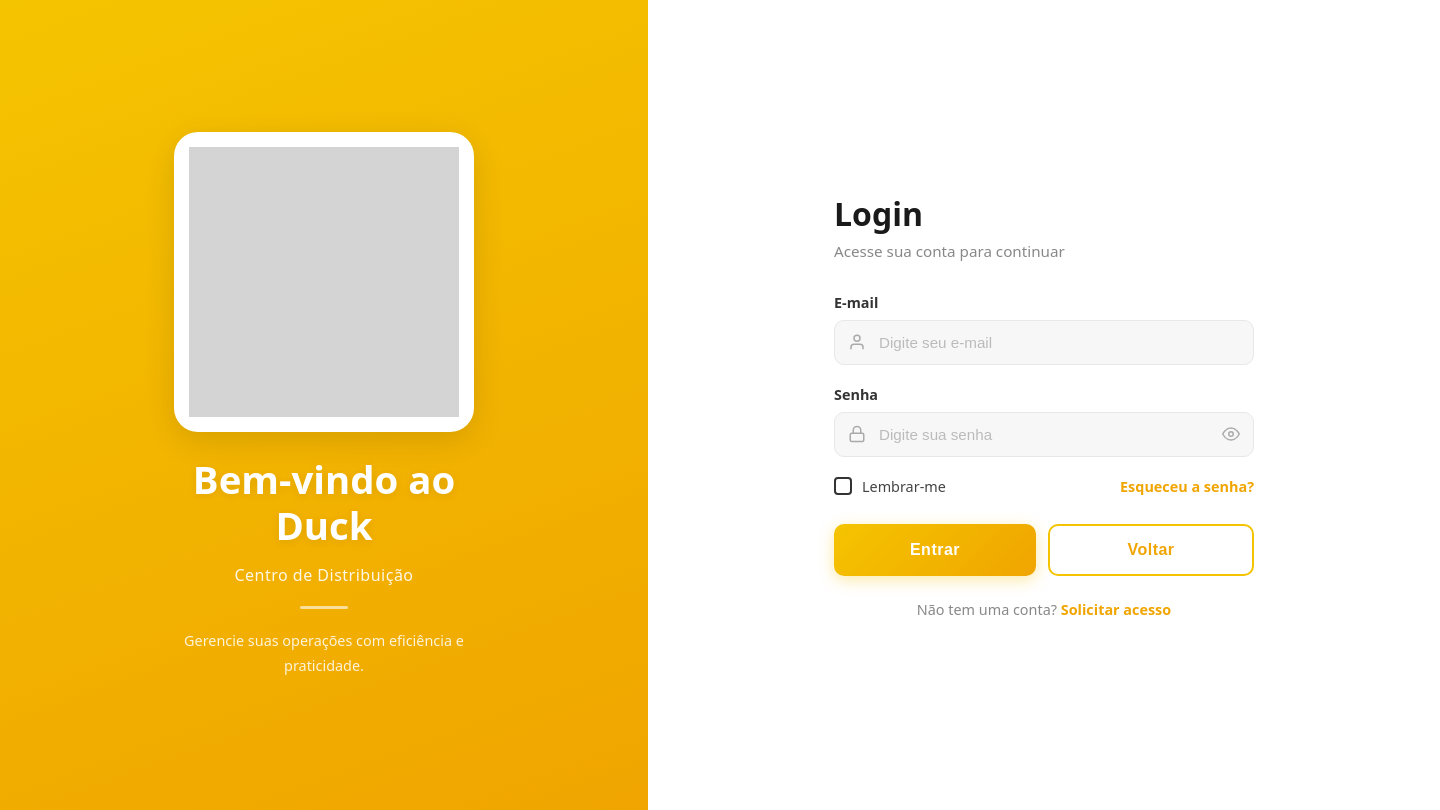
Scenario: Tela de Login › exibe mensagem de erro quando o backend rejeita as credenciais
Type "errado@email.com" into the field with placeholder "Digite seu e-mail". click: coordinates (1044, 342)
box: left=834, top=320, right=1254, bottom=364
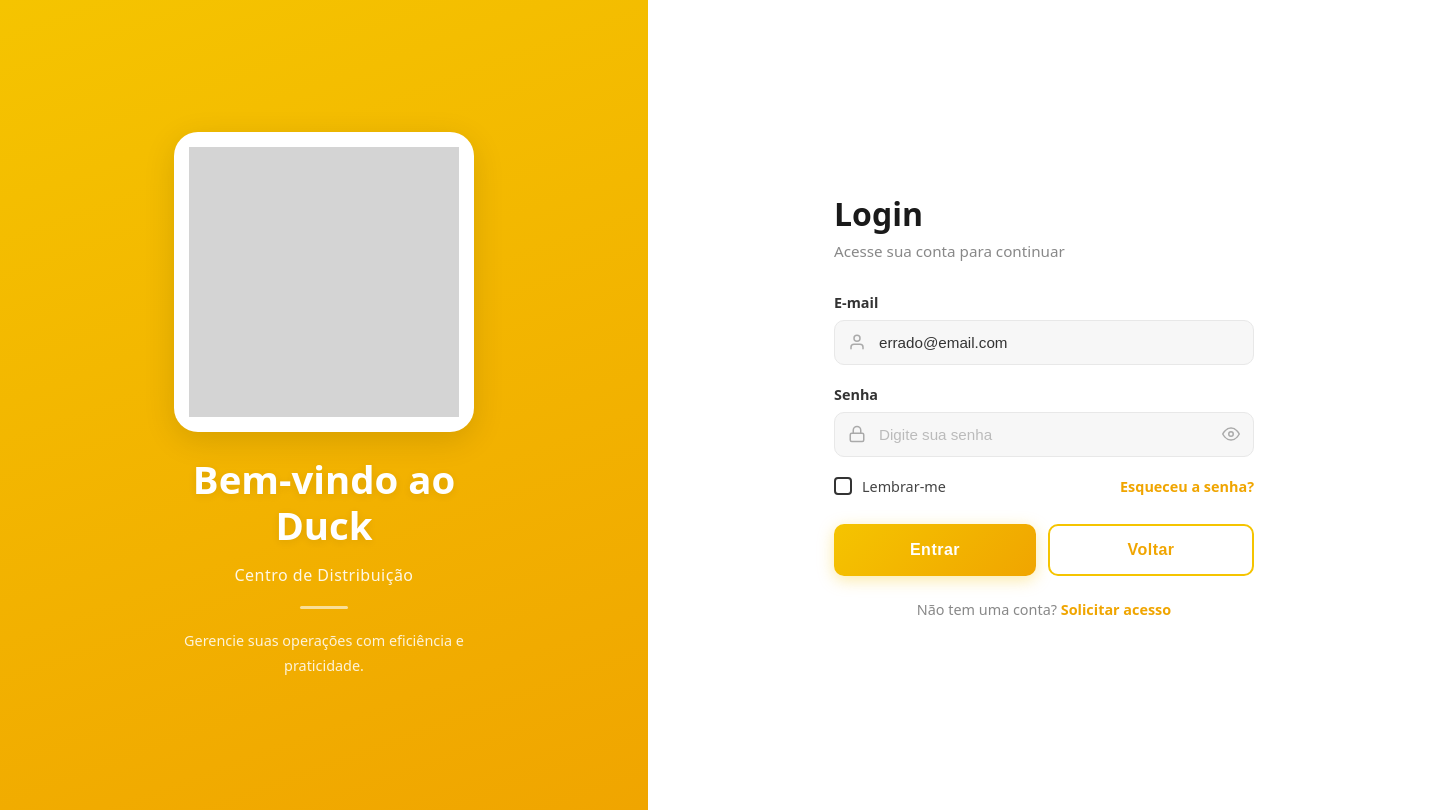
Type "errado" into the password field with placeholder "Digite sua senha". click: coordinates (1044, 434)
box: left=834, top=412, right=1254, bottom=456
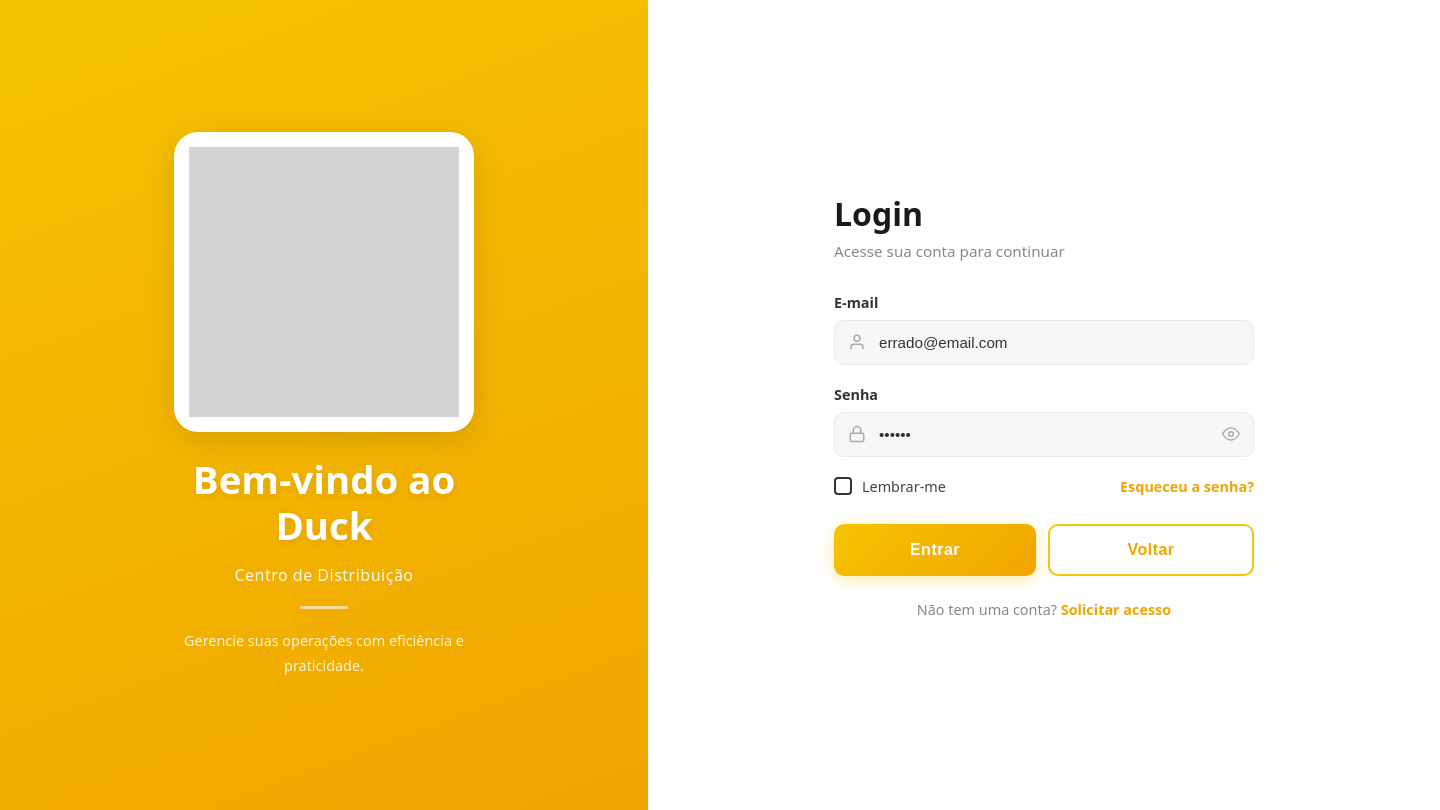
Click the button "Entrar". click: coordinates (935, 550)
box: left=834, top=524, right=1036, bottom=576
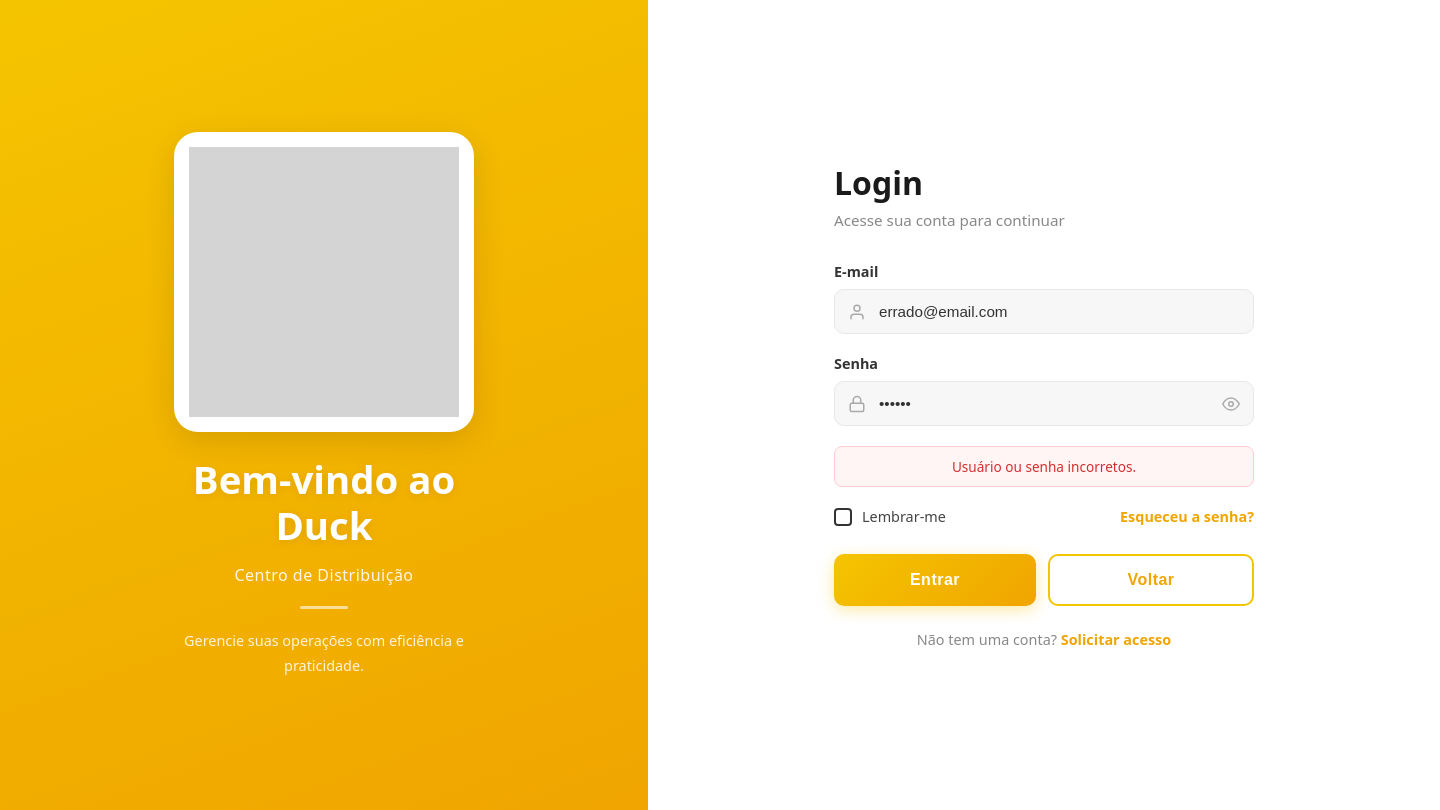
Expected: the text "Usuário ou senha incorretos." is shown, left=834, top=446, right=1254, bottom=487
